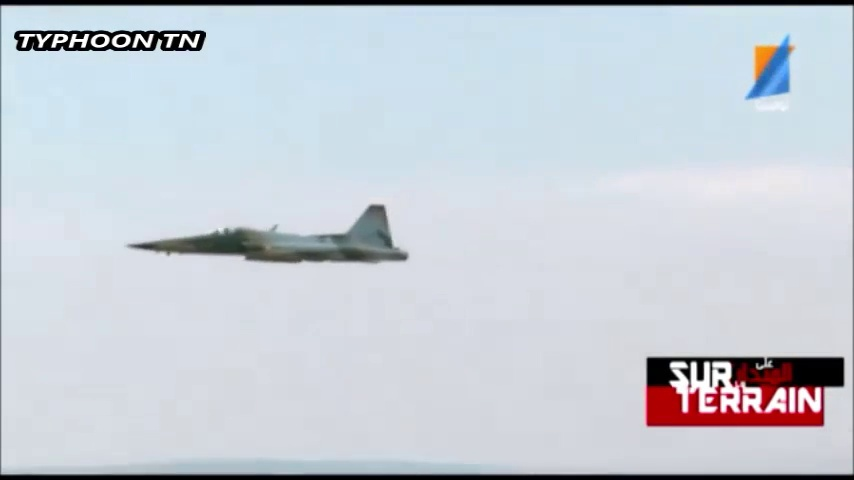Airplane: (123, 201, 410, 268)
